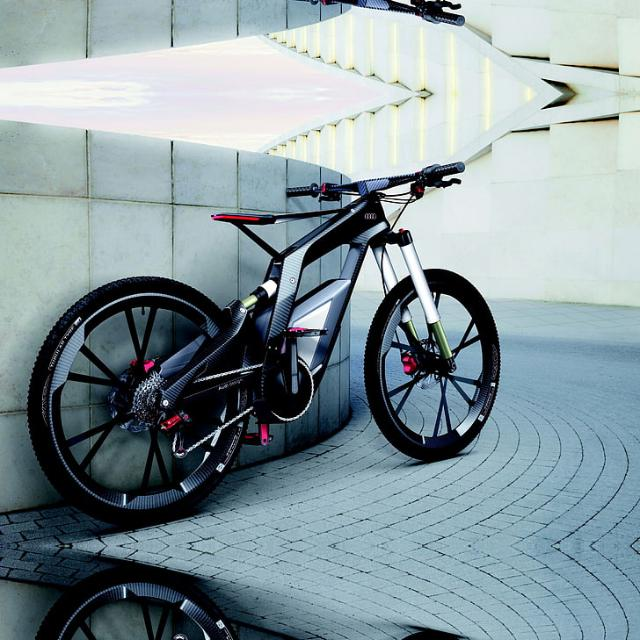obstacle: (14, 137, 518, 519), (14, 572, 518, 640), (14, 0, 518, 49)
